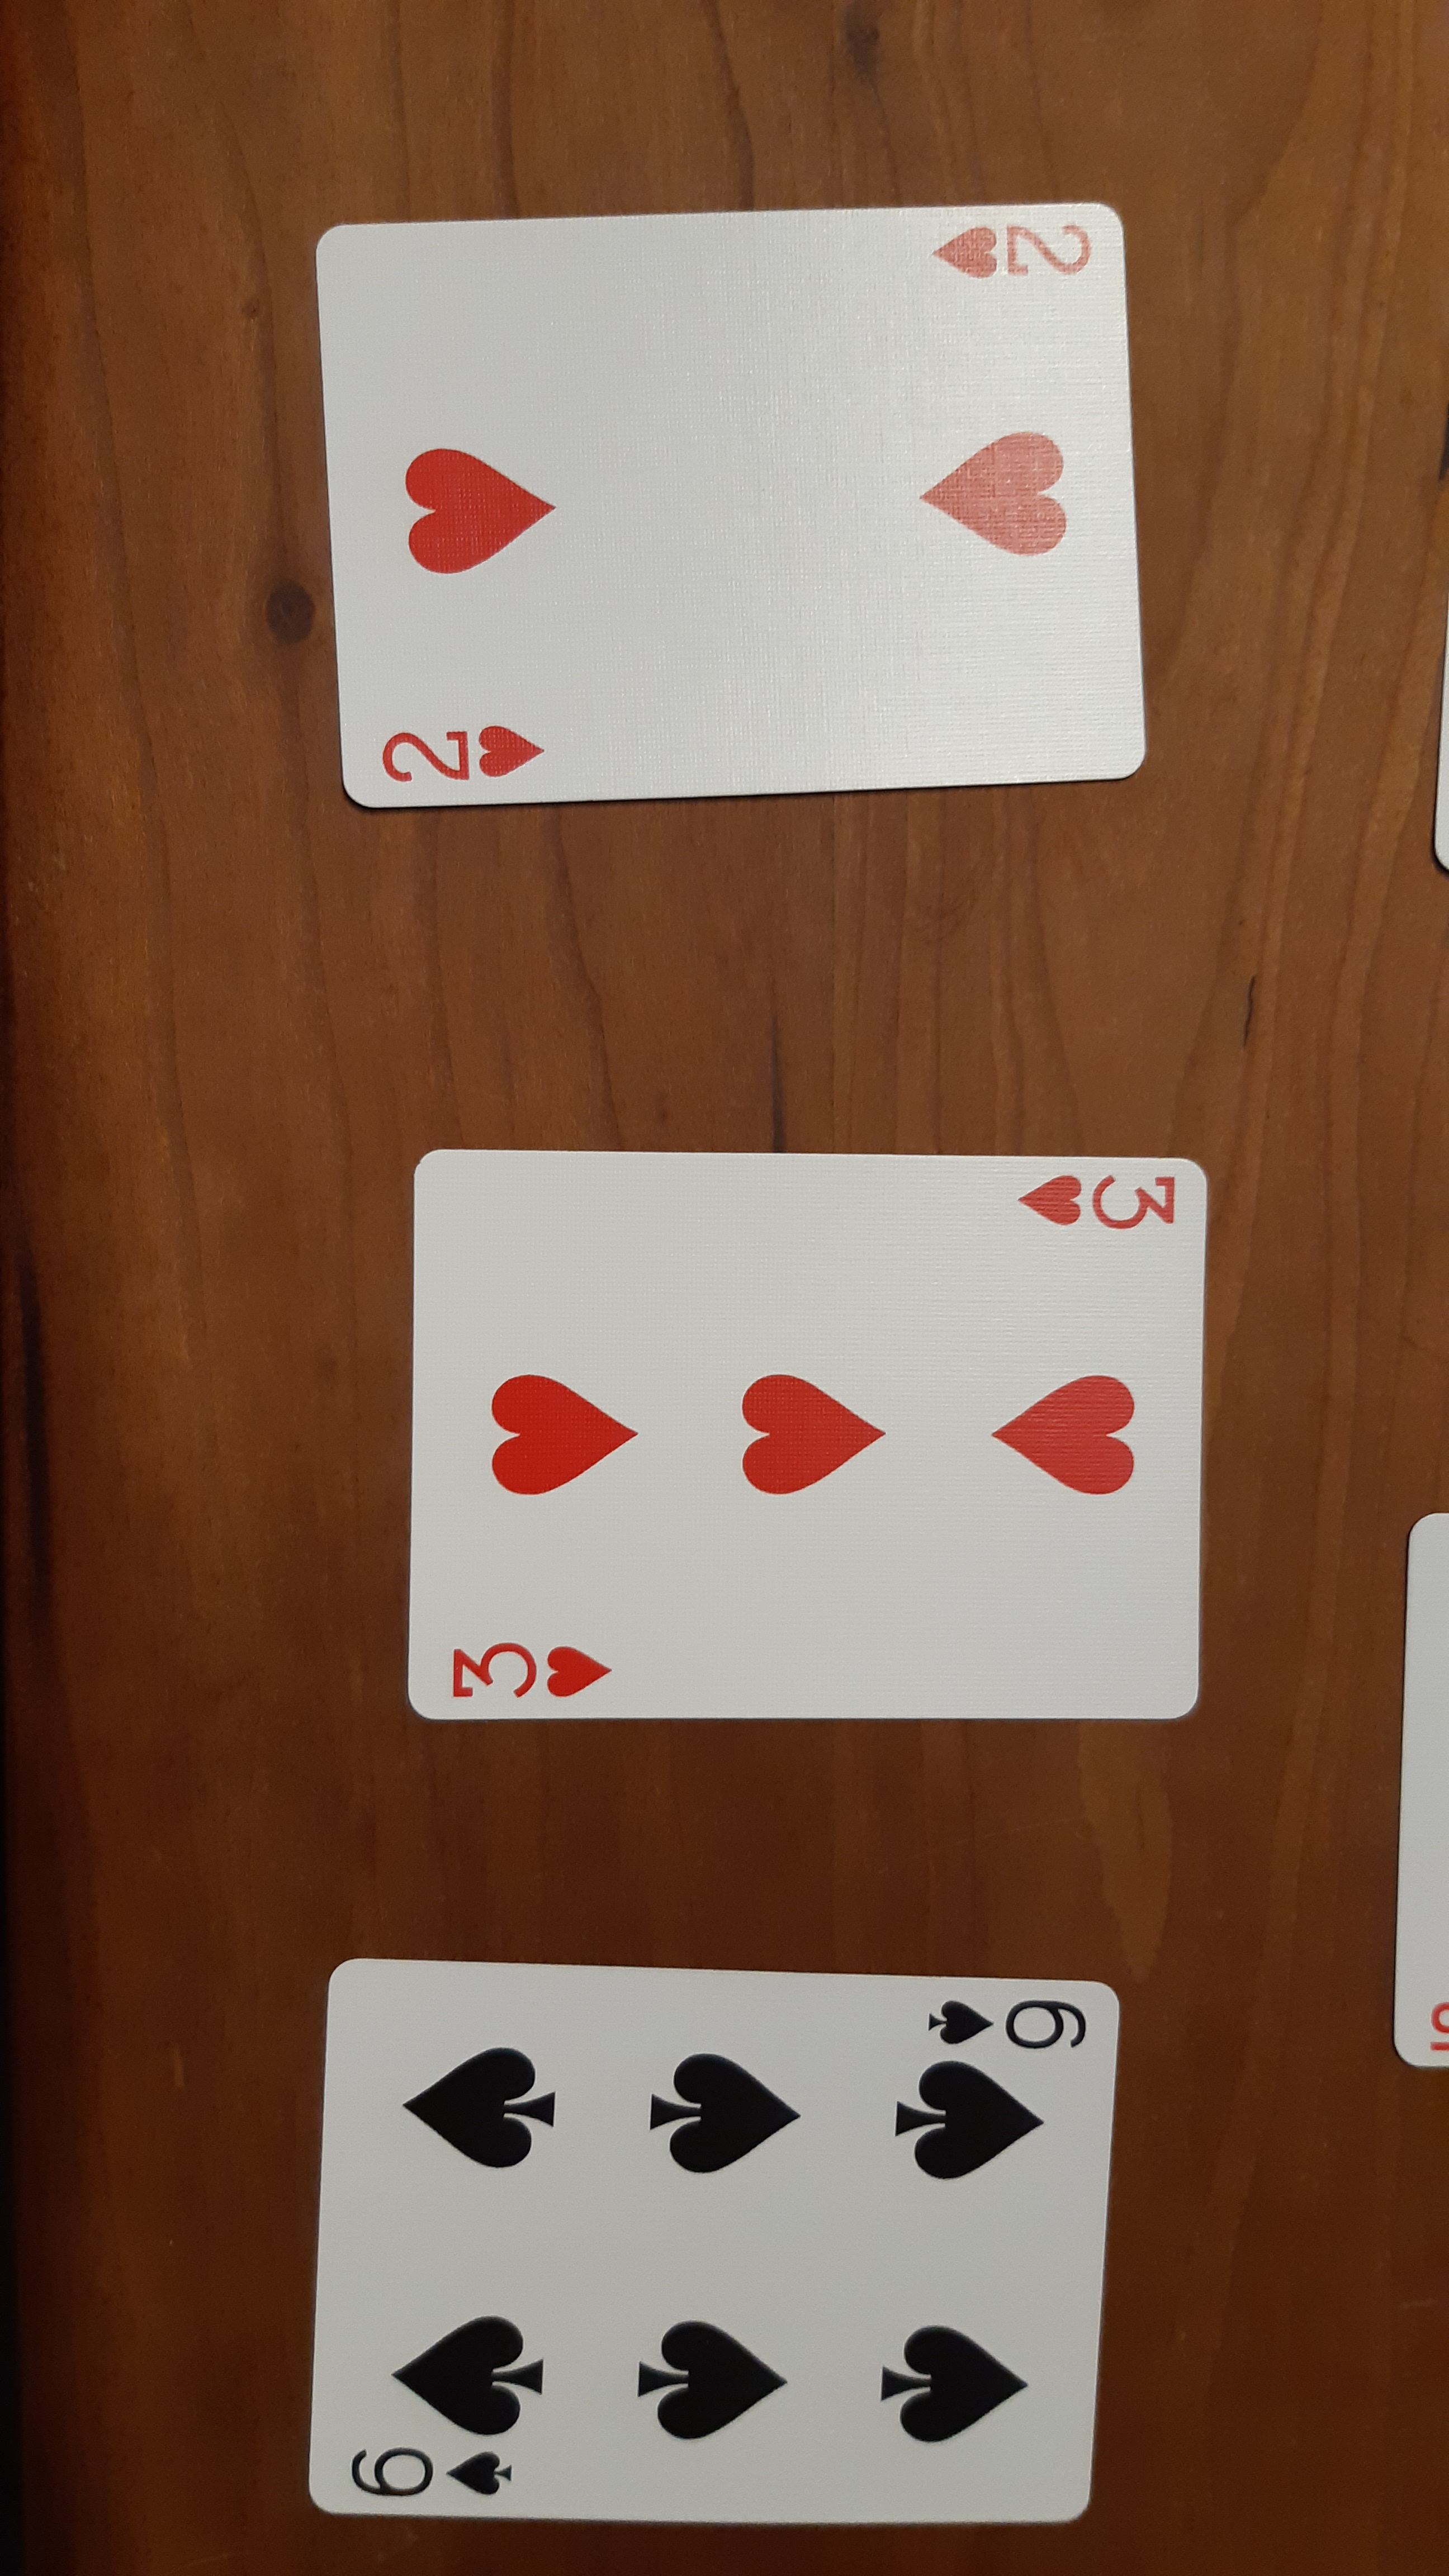Black_Spade_6: (329, 1987, 1097, 2516)
Red_Heart_2: (927, 209, 1097, 294), (375, 713, 557, 789)
Red_Heart_3: (439, 1628, 628, 1711), (1007, 1155, 1191, 1238)
